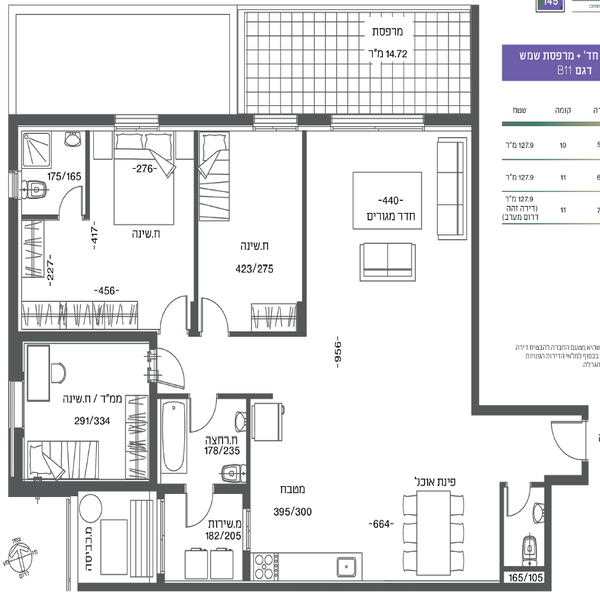door: (552, 417, 589, 464), (178, 487, 214, 531), (198, 294, 232, 340), (190, 398, 224, 437), (57, 186, 87, 222), (159, 294, 188, 330), (505, 481, 531, 519)
room: (9, 112, 201, 341), (300, 109, 482, 338), (194, 112, 314, 336), (9, 334, 156, 494), (157, 479, 254, 589), (150, 393, 250, 495), (500, 479, 553, 589)
wall: (469, 6, 480, 414), (79, 583, 552, 591), (7, 201, 24, 382), (13, 113, 125, 132), (299, 134, 308, 331), (15, 330, 155, 341), (15, 482, 145, 493), (160, 114, 252, 129), (148, 384, 159, 491), (477, 404, 583, 415), (544, 477, 554, 588), (194, 123, 199, 334), (497, 484, 506, 583), (246, 395, 252, 508), (297, 116, 335, 131), (86, 132, 92, 220), (427, 114, 473, 125), (211, 483, 248, 496), (242, 549, 253, 584), (157, 484, 186, 494), (17, 216, 57, 218)
window: (336, 114, 423, 130), (251, 114, 299, 133), (8, 382, 25, 429), (117, 113, 159, 131)
